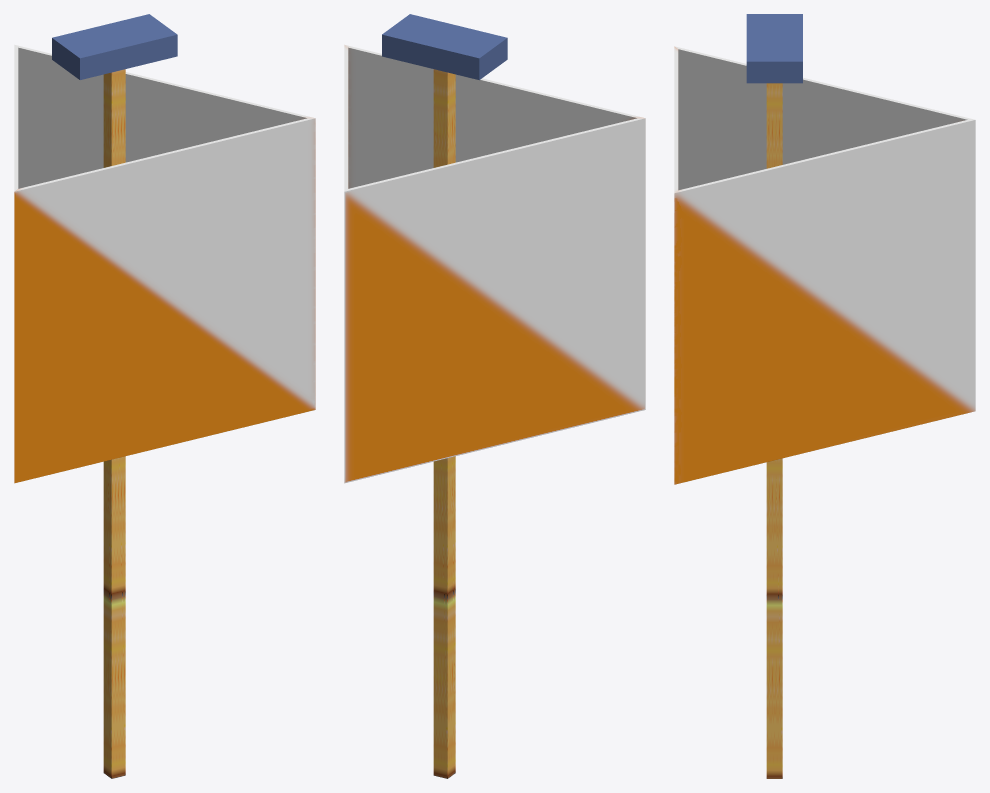
Rendered from Control.fbx.
The picture shows the model from 3 angles, left to right: view 1: azimuth 30°, elevation 25°; view 2: azimuth 150°, elevation 25°; view 3: azimuth 270°, elevation 25°; orthographic projection.
Visible parts, largest first — view 1: Flag, Stick, Control; view 2: Flag, Stick, Control; view 3: Flag, Stick, Control.
Part boxes in pixels (x1,y1,x2,y2): Flag: [14, 44, 315, 483]; Stick: [103, 69, 125, 778]; Control: [52, 14, 177, 79]; Flag: [344, 44, 645, 483]; Stick: [433, 69, 455, 778]; Control: [382, 14, 507, 80]; Flag: [674, 46, 975, 484]; Stick: [766, 83, 782, 778]; Control: [746, 14, 802, 83].
Size of the model in its own units: 43.3 by 101 by 37.5.
